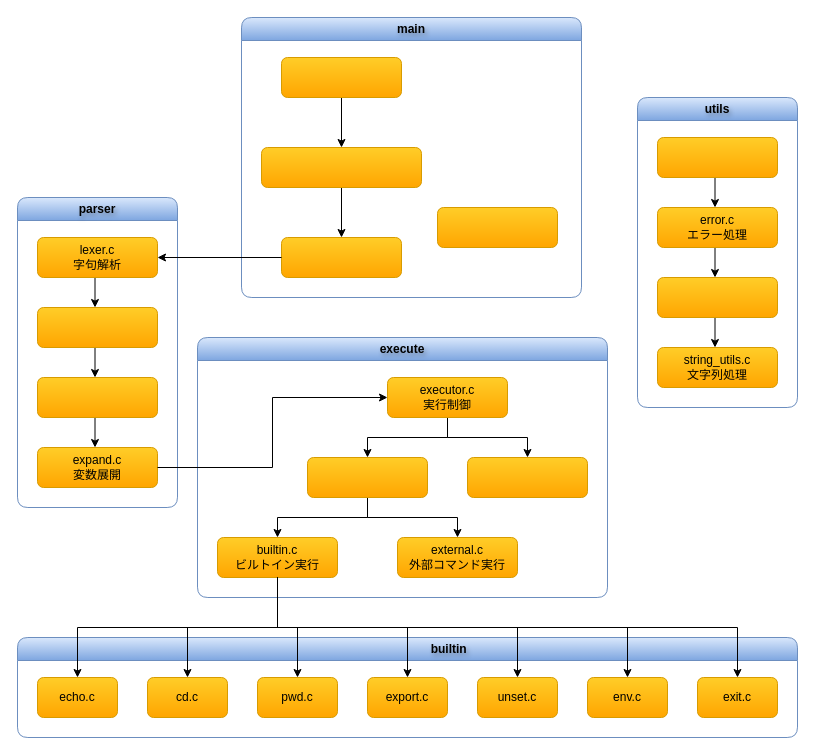
Some shapes in this 815 by 755 pixel diagram are drawn without their labels. Here are the shapes that lost their labels. From the top down, the box of each, then its label:
(280, 56, 402, 98): main.c
(260, 146, 422, 188): readline コマンドライン読み込み
(656, 136, 778, 178): env_utils.c 環境変数管理
(436, 206, 558, 248): signal_handler シグナル処理
(280, 236, 402, 278): process_line 入力処理
(656, 276, 778, 318): memory, c メモリ管理
(36, 306, 158, 348): tokenizer.c トークン化
(36, 376, 158, 418): parser.c 構文解析
(306, 456, 428, 498): pipeline.c パイプライン処理
(466, 456, 588, 498): redirect.c リダイレクト処理
